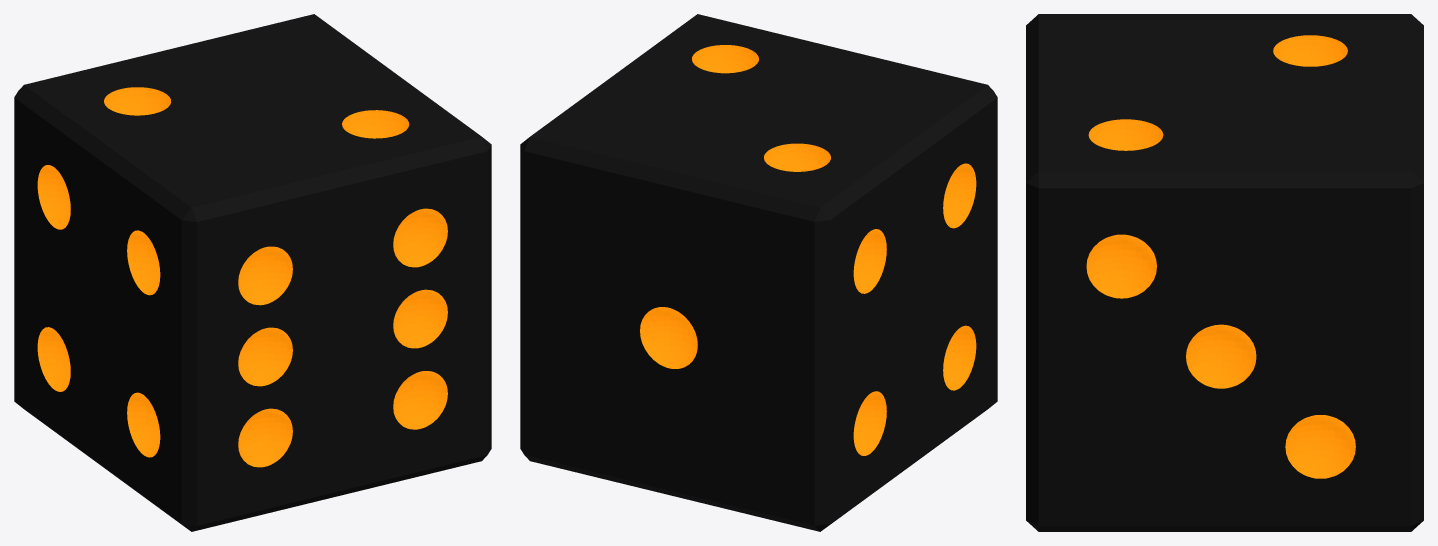
The model's file is Dice.glb.
3 renders of one model, left to right at view 1: azimuth 30°, elevation 25°; view 2: azimuth 150°, elevation 25°; view 3: azimuth 270°, elevation 25°, orthographic. The views are drawn at different scales.
Parts seen in each view (by area): view 1: Dice; view 2: Dice; view 3: Dice.
Part boxes in pixels (<box>): Dice: <box>14,14,491,531</box>; Dice: <box>520,14,997,531</box>; Dice: <box>1026,14,1423,531</box>.
Size of the model in its own units: 2 by 2 by 2.
